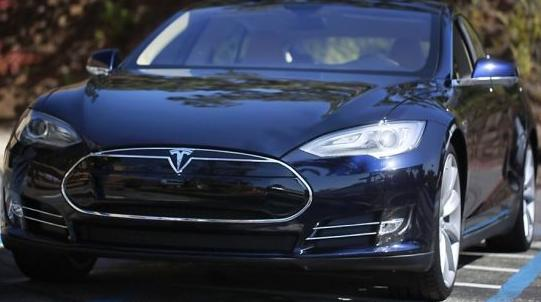front_view: (4, 89, 439, 285)
headlight: (297, 118, 429, 158)
side_glass: (447, 15, 488, 78)
